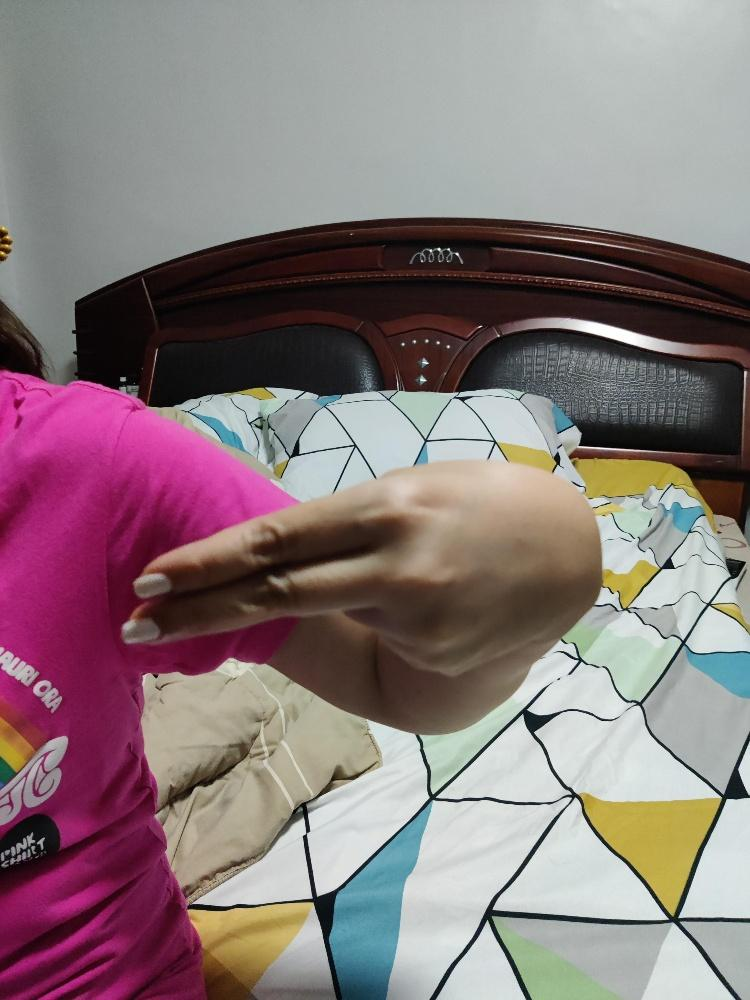h: (118, 455, 604, 678)
